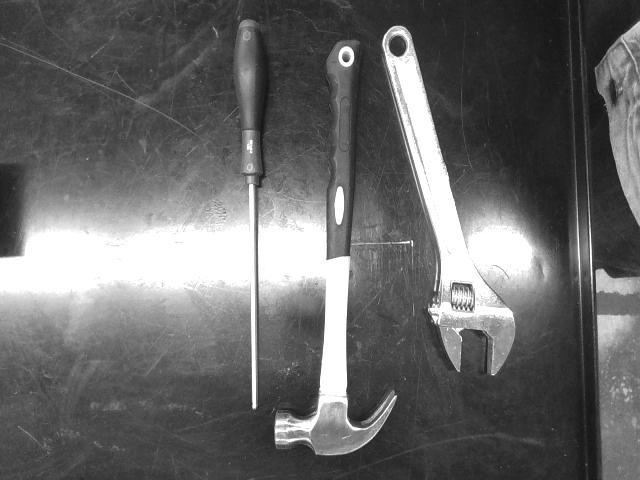Adjustable spanner: (382, 27, 515, 375)
Hammer: (275, 40, 396, 455)
Screwdriver: (235, 18, 268, 409)
